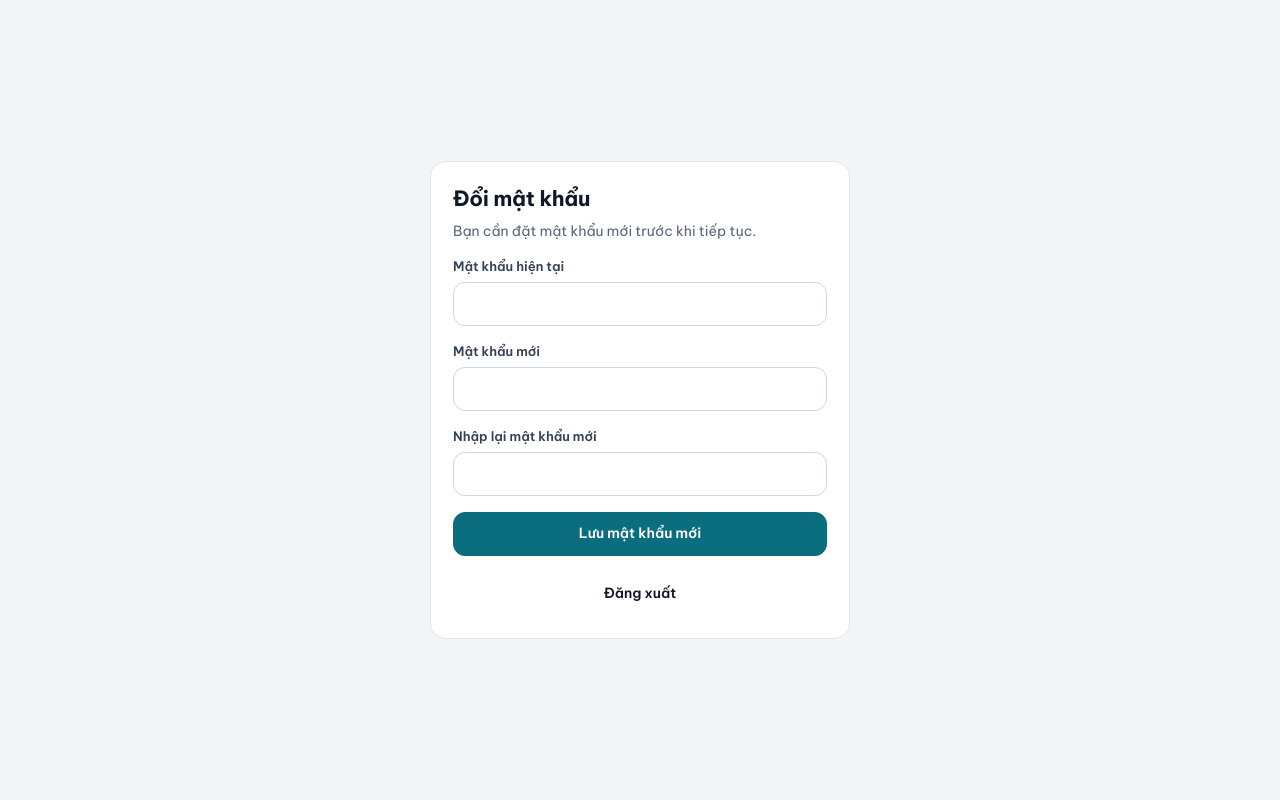
ChangePasswordPage › saves the new password and continues to the home page
This screenshot has width=1280, height=800.
Type "TempPass1234" into the password field labelled "Mật khẩu hiện tại". click: (640, 304)
box: [453, 282, 827, 326]
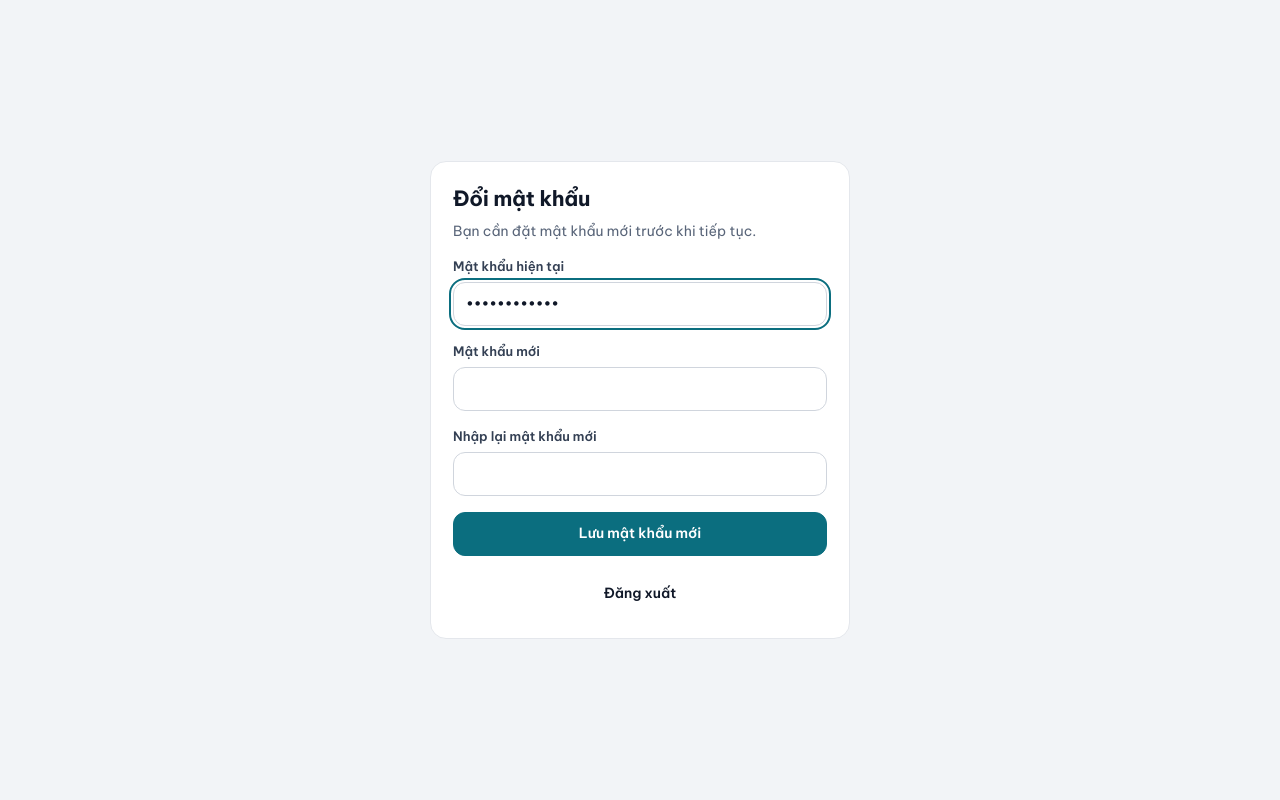
Type "NewPassw0rd!" into the password field labelled "Mật khẩu mới". click: (640, 389)
box: [453, 367, 827, 411]
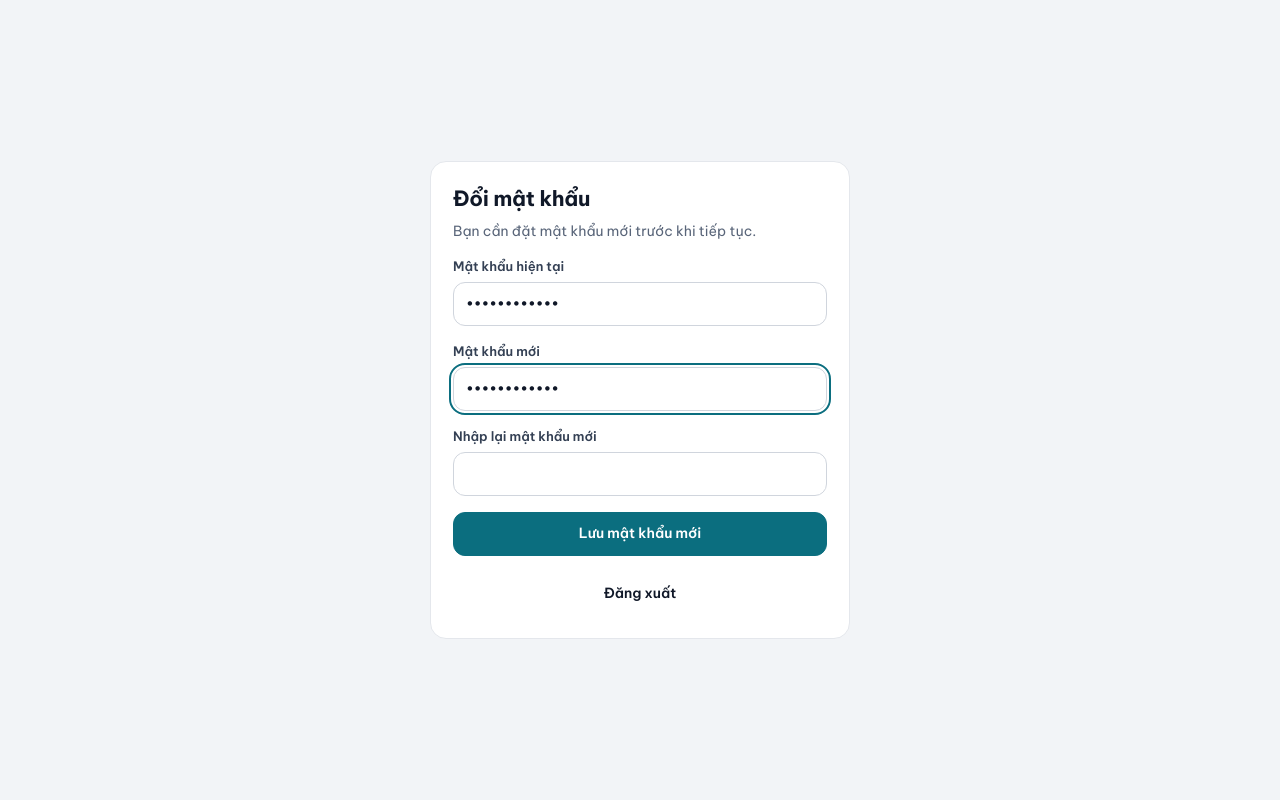
Type "NewPassw0rd!" into the password field labelled "Nhập lại mật khẩu mới". click: (640, 474)
box: [453, 452, 827, 496]
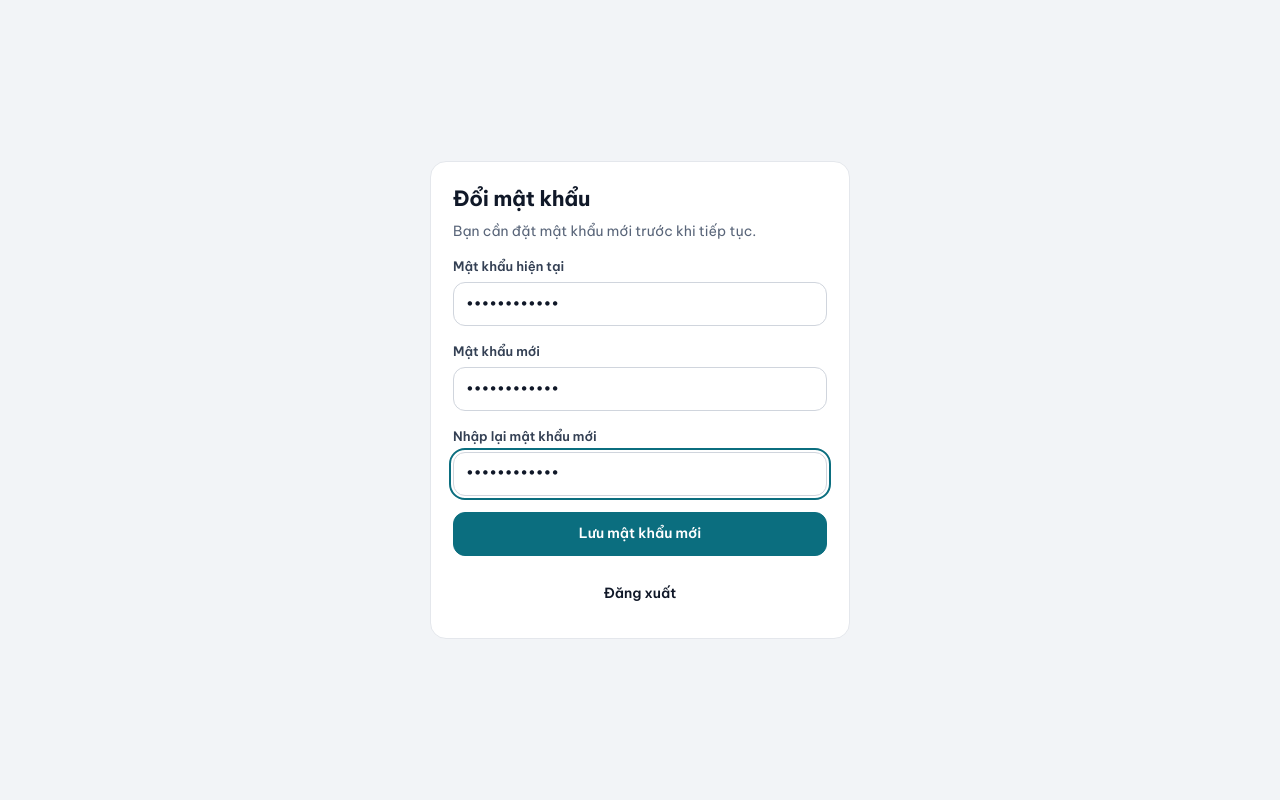
Click the button "Lưu mật khẩu mới". click: (640, 534)
box: [453, 512, 827, 556]
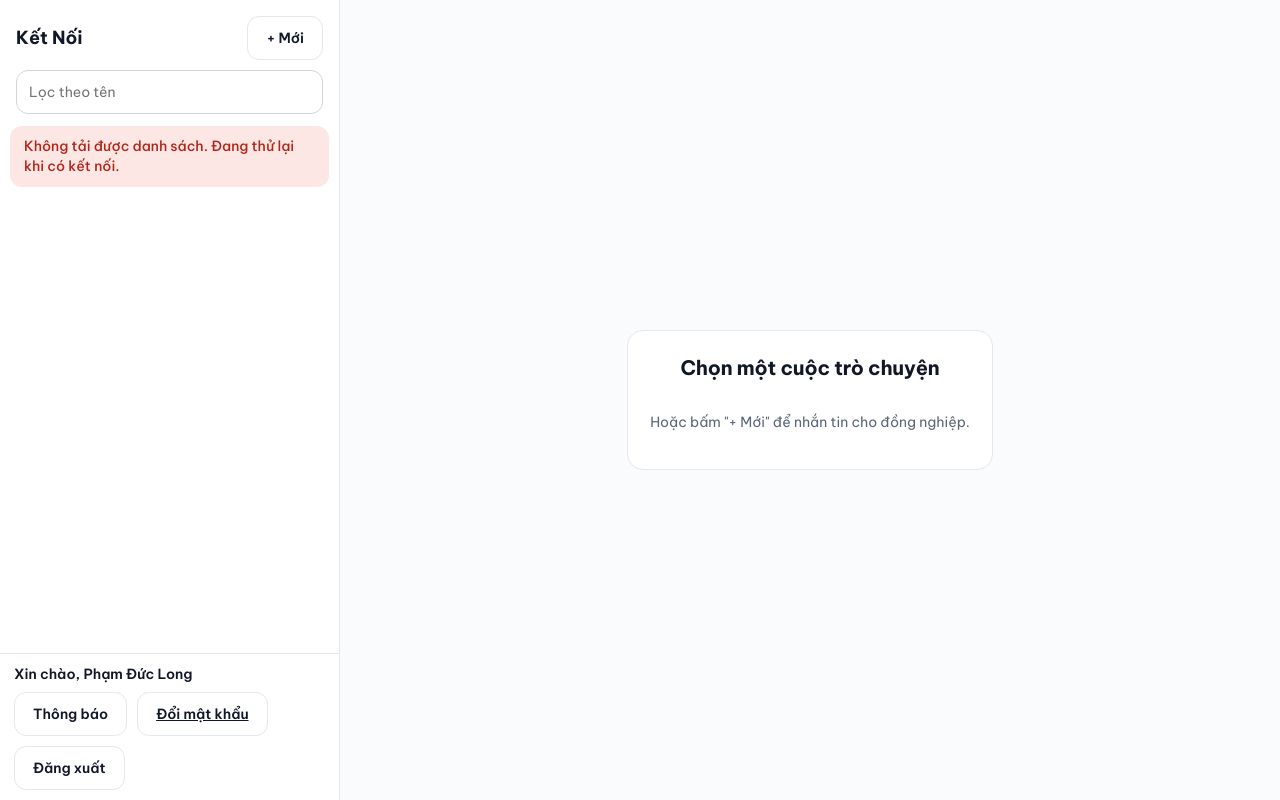
Now the text "Xin chào, Phạm Đức Long" is shown, box [14, 665, 192, 683]
